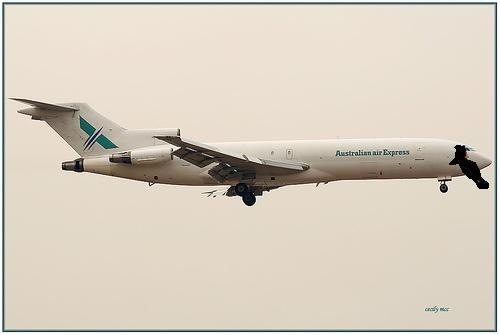tampered: (450, 146, 489, 189)
